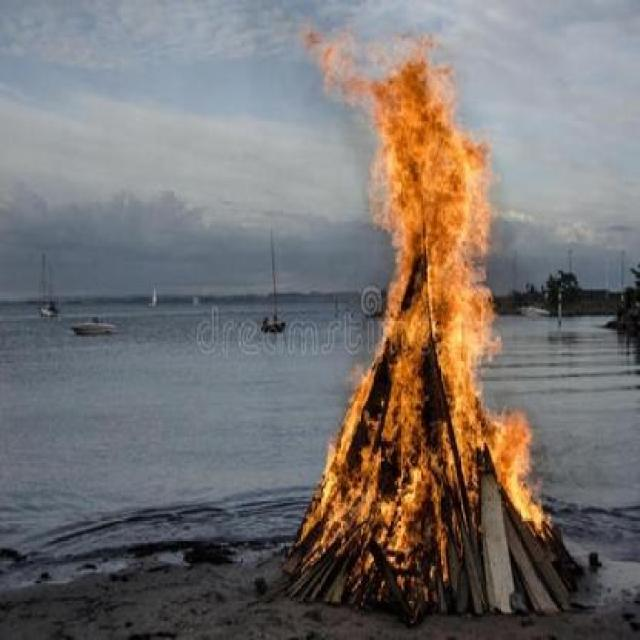Fire: (287, 18, 560, 592)
